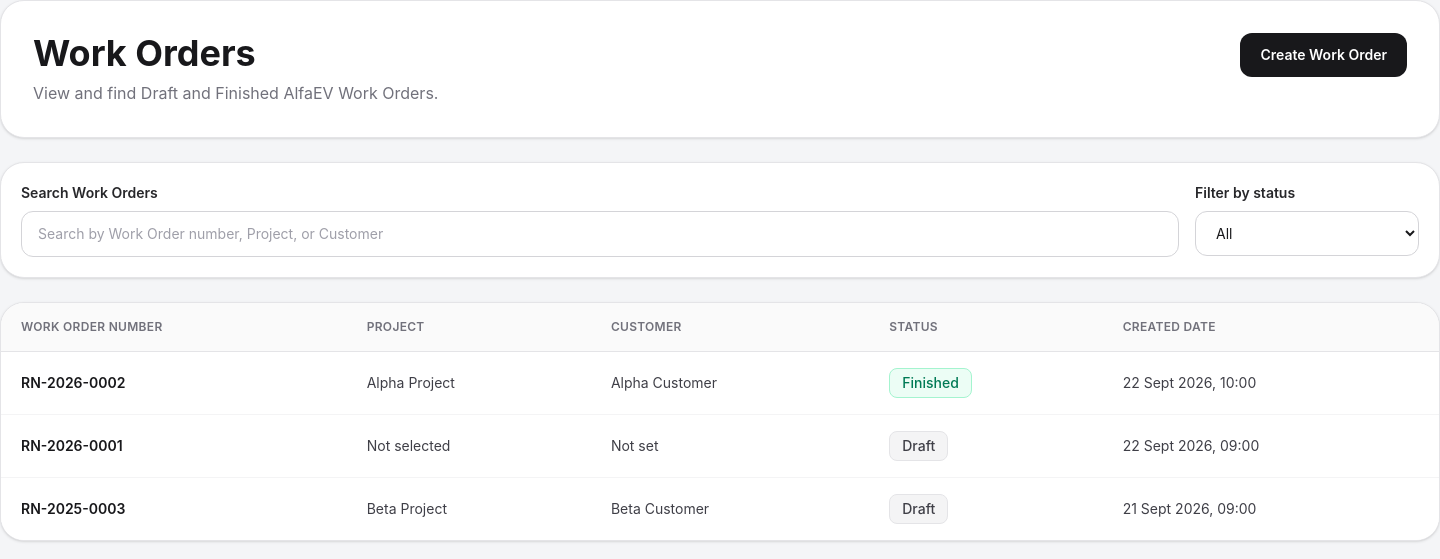
Test case: WorkOrdersPage › stays on the list and shows a safe access loss error
The width and height of the screenshot is (1440, 559).
Step 1. Click the button "Create Work Order" → (1324, 55), box [1240, 33, 1407, 77]
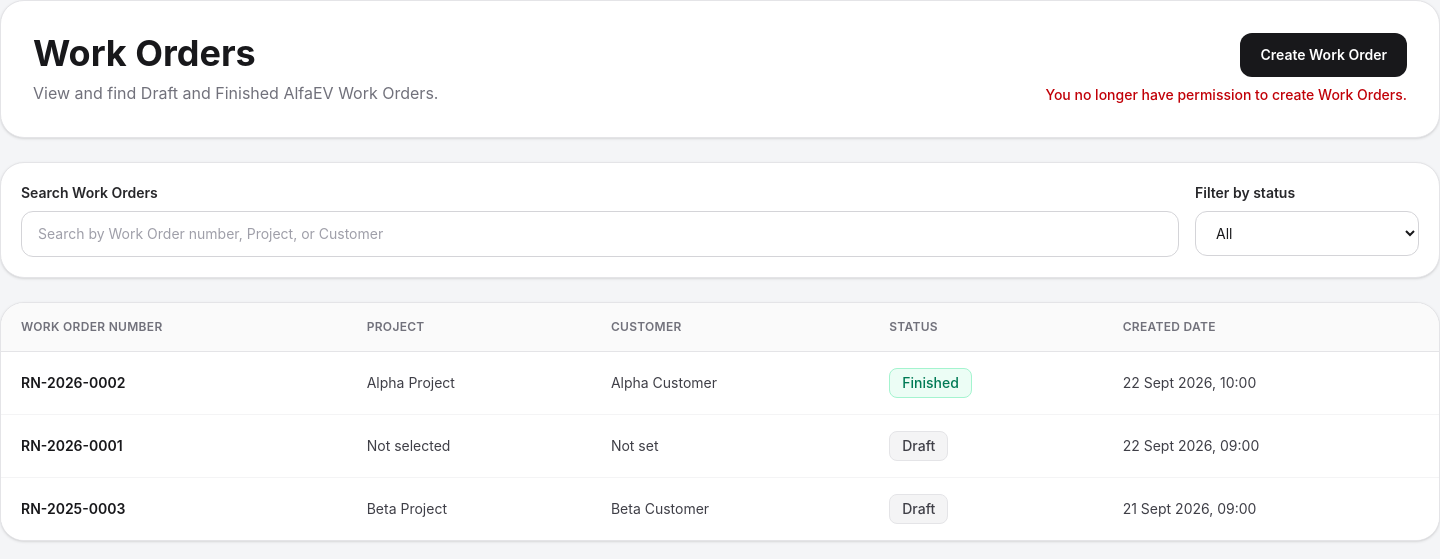
Check: the heading "Work Orders" is shown, box [33, 31, 256, 75]
Check: the message reads "You no longer have permission to create Work Orders.", box [1045, 86, 1407, 103]
